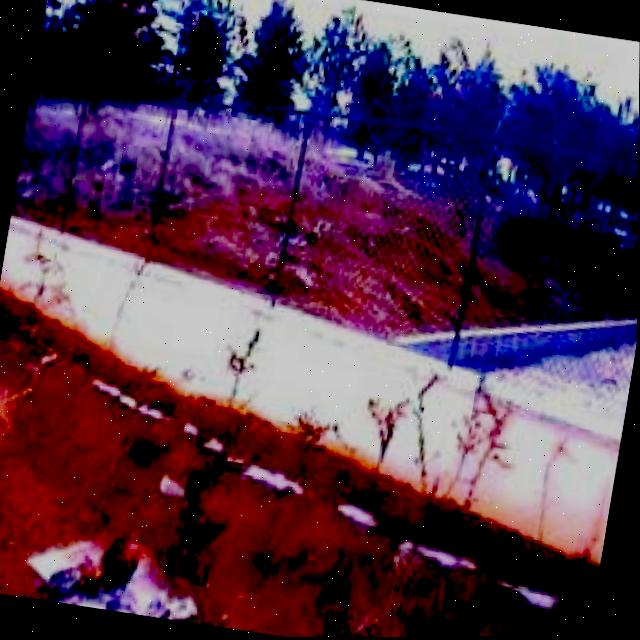Fire: (70, 519, 154, 601)
